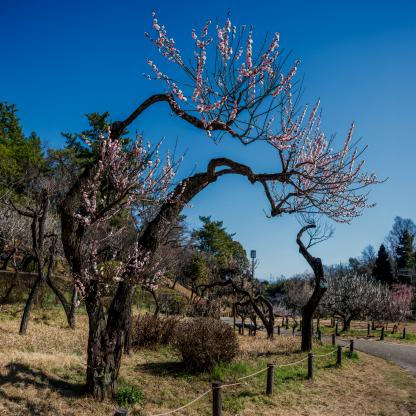Ume: (28, 1, 394, 312), (272, 268, 416, 320)
